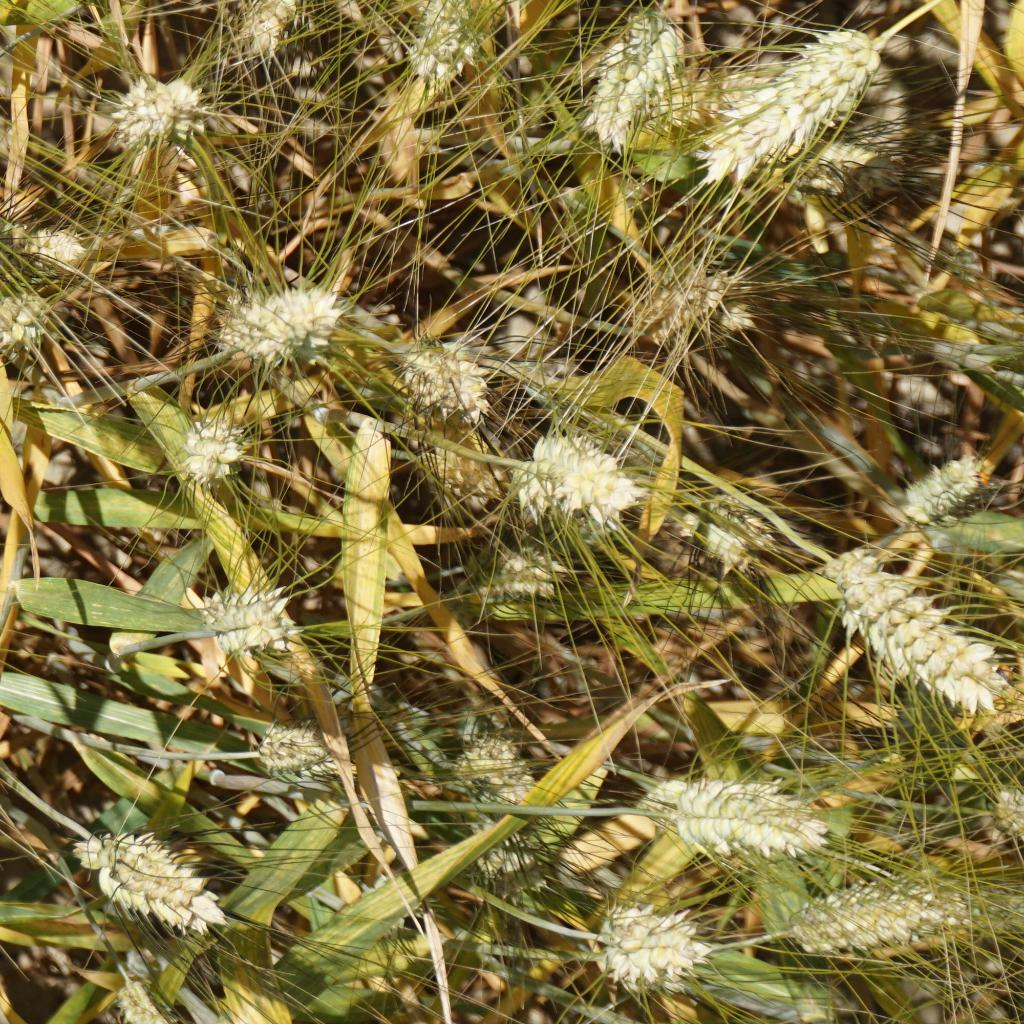0-0: (691, 11, 874, 198), (818, 540, 996, 718), (789, 856, 996, 972), (659, 748, 830, 864), (66, 821, 228, 937), (762, 121, 930, 218), (462, 720, 553, 886), (395, 318, 505, 442), (628, 248, 755, 355), (589, 890, 724, 987), (581, 0, 675, 128), (210, 267, 340, 356), (198, 555, 311, 657), (535, 435, 640, 537), (106, 58, 206, 147), (675, 482, 777, 567), (251, 714, 356, 791), (393, 0, 490, 80), (902, 437, 986, 529), (23, 198, 104, 279), (161, 395, 242, 470), (0, 285, 62, 364), (248, 0, 332, 53)
